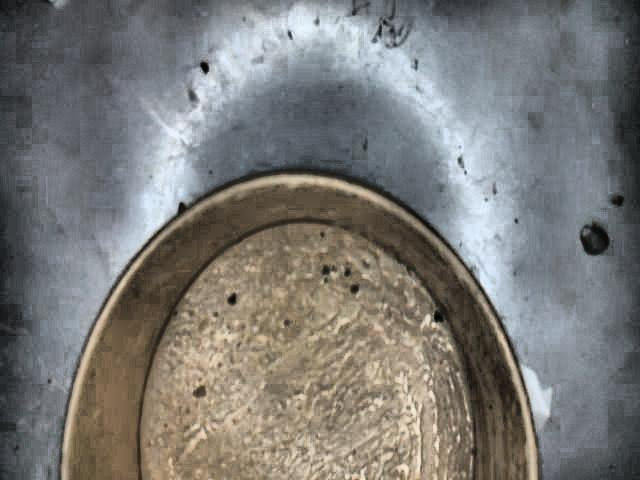Paper: (45, 155, 560, 480)
